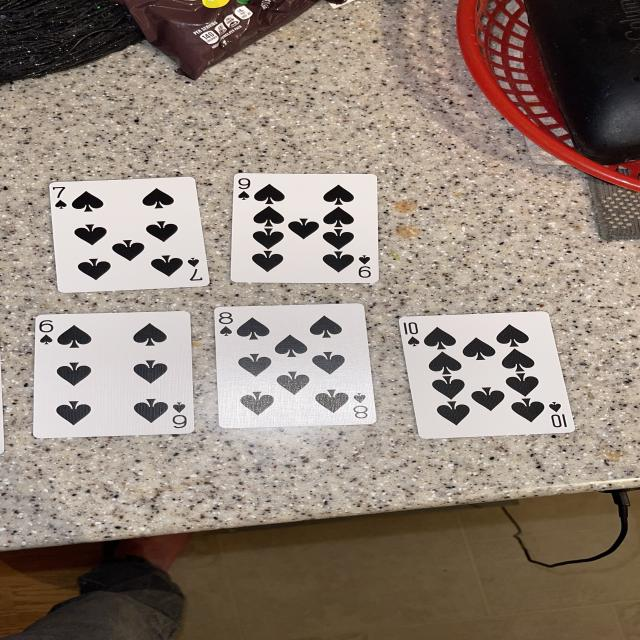10 of spades: (400, 311, 576, 439)
6 of spades: (33, 311, 193, 438)
7 of spades: (49, 178, 209, 292)
8 of spades: (213, 304, 376, 429)
9 of spades: (231, 172, 378, 282)
